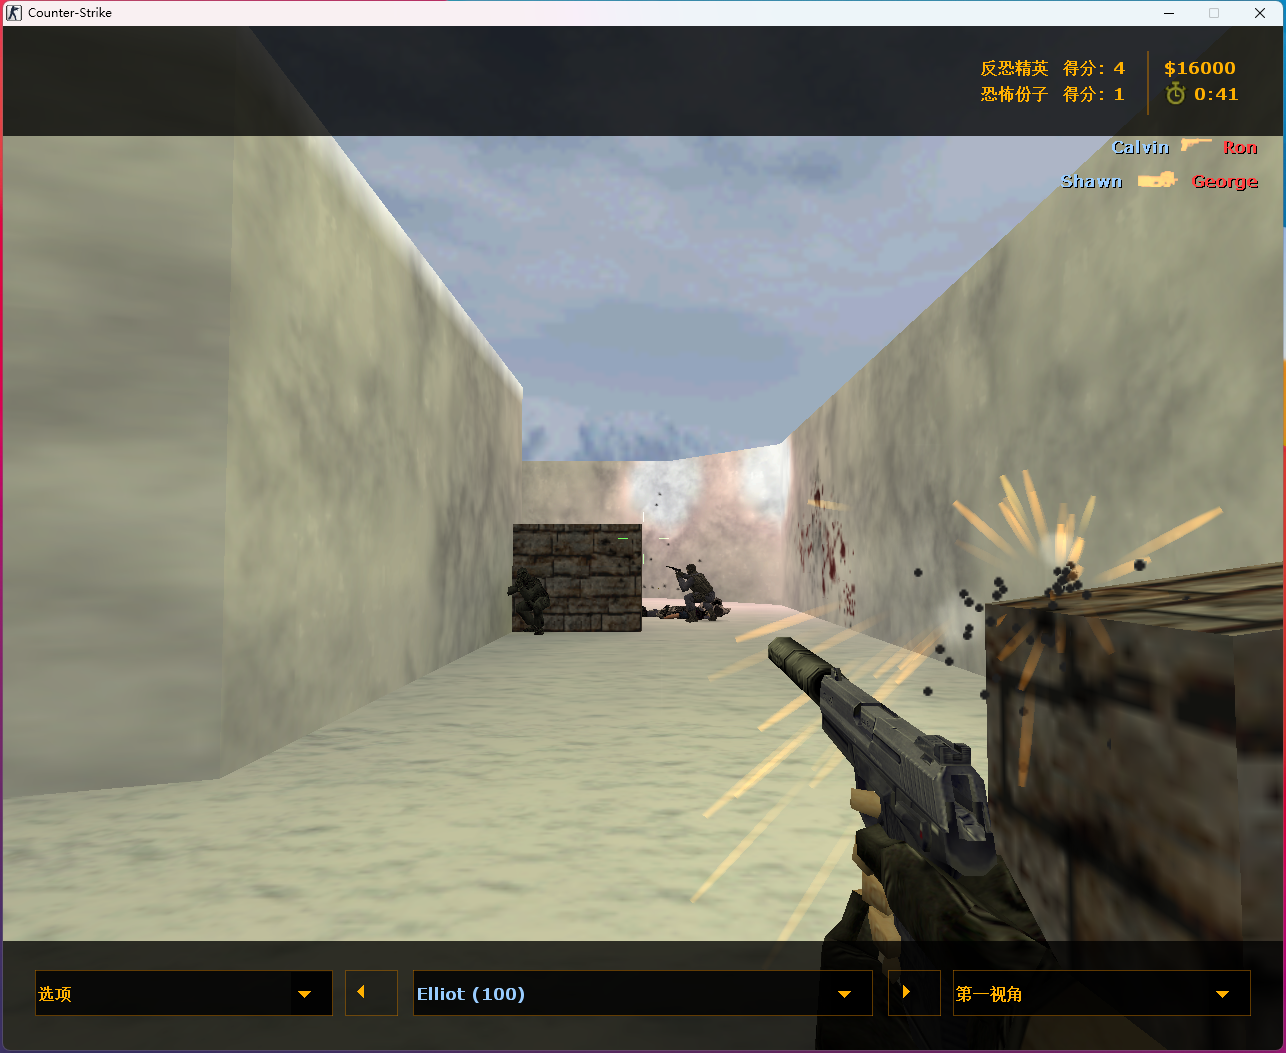T: (666, 560, 718, 622), (507, 566, 551, 634)
dead: (636, 603, 707, 622)
